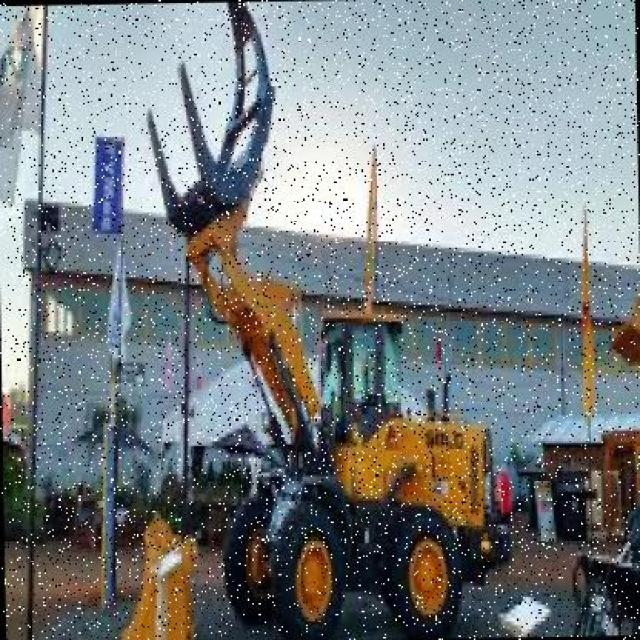buldozerpayloadergrader: (154, 0, 495, 640)
